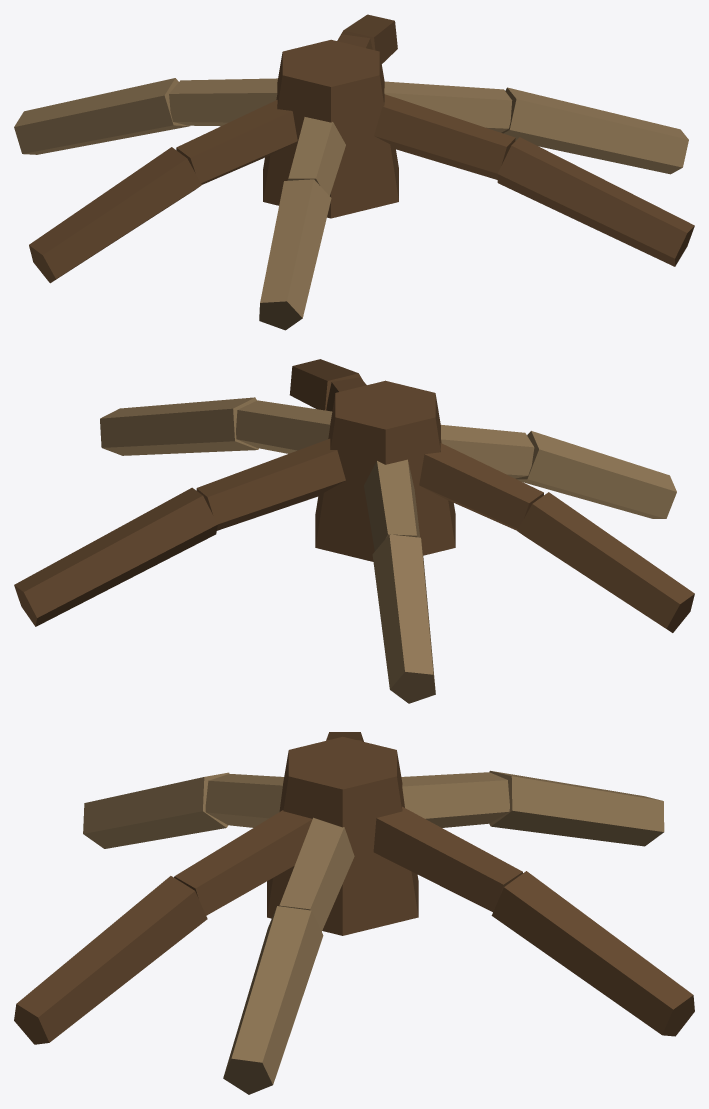
The model's file is roots.glb.
The picture shows the model from 3 angles, top to bottom: view 1: azimuth 30°, elevation 25°; view 2: azimuth 150°, elevation 25°; view 3: azimuth 270°, elevation 25°; orthographic projection. The views are drawn at different scales.
Parts seen in each view (by area): view 1: bark, bark_light; view 2: bark, bark_light; view 3: bark, bark_light.
Part boxes in pixels (x1,y1,x2,y2): bark: [29, 14, 694, 283]; bark_light: [14, 78, 688, 330]; bark: [14, 359, 694, 632]; bark_light: [100, 397, 676, 703]; bark: [14, 732, 694, 1044]; bark_light: [83, 770, 664, 1094].
Bounding box in the file's own units: 3.13 × 0.7511 × 2.73.
